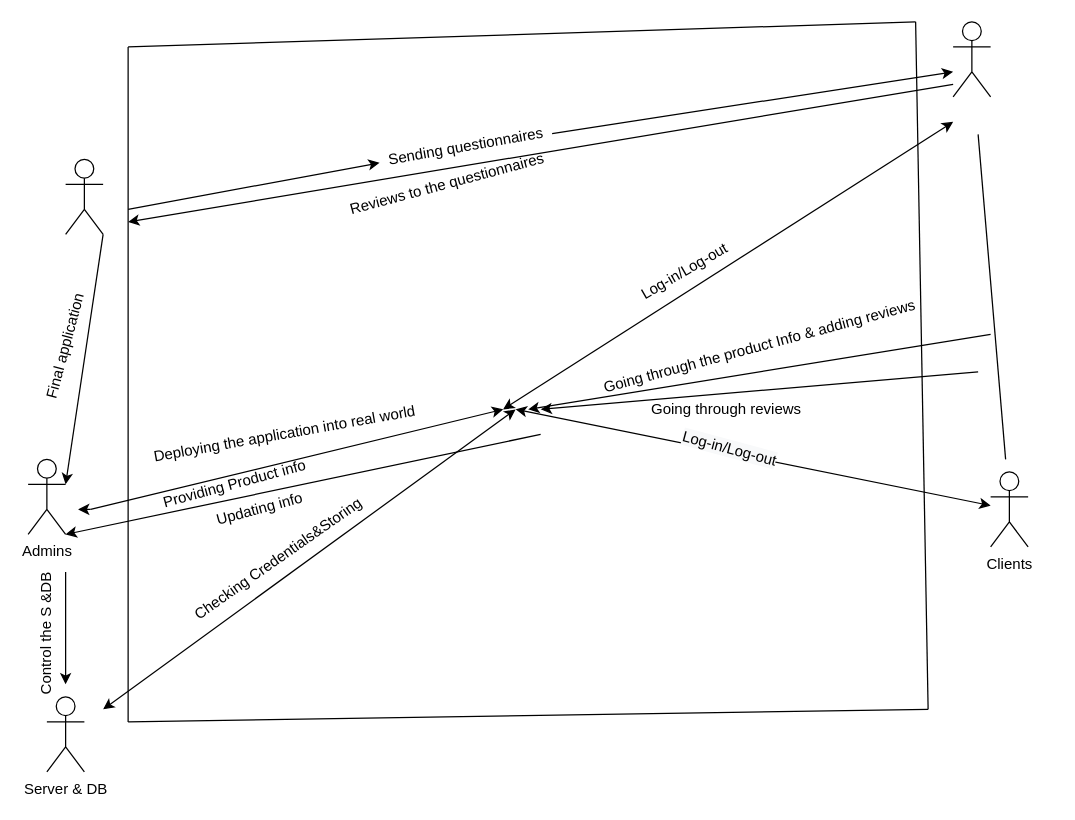
Some shapes in this 1075 by 820 pixel diagram are drawn without their labels. The centre of each missing label's shape, as x and y in pixels:
"Developers" goes at point (83, 196).
"Group of existing Clients" goes at point (971, 59).
